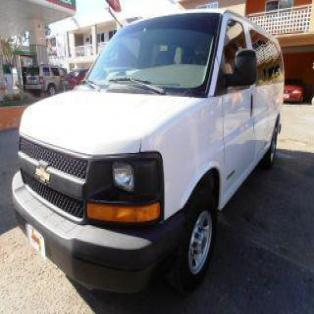Auto: (10, 8, 282, 302)
